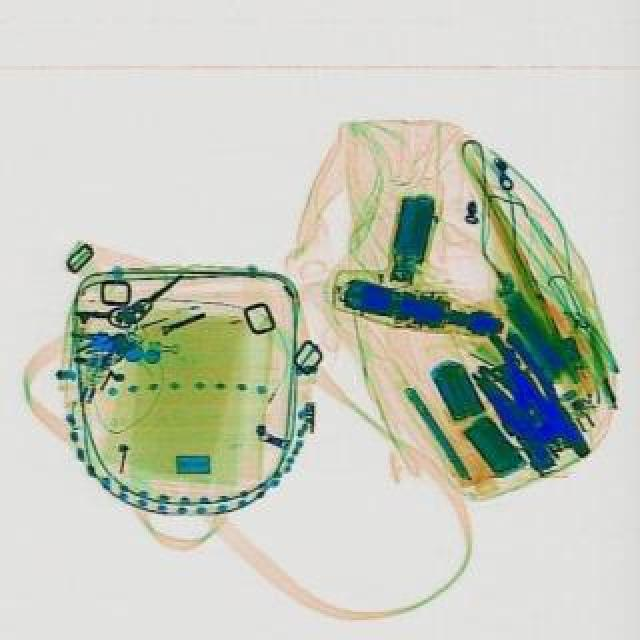wrench: (488, 320, 590, 444)
